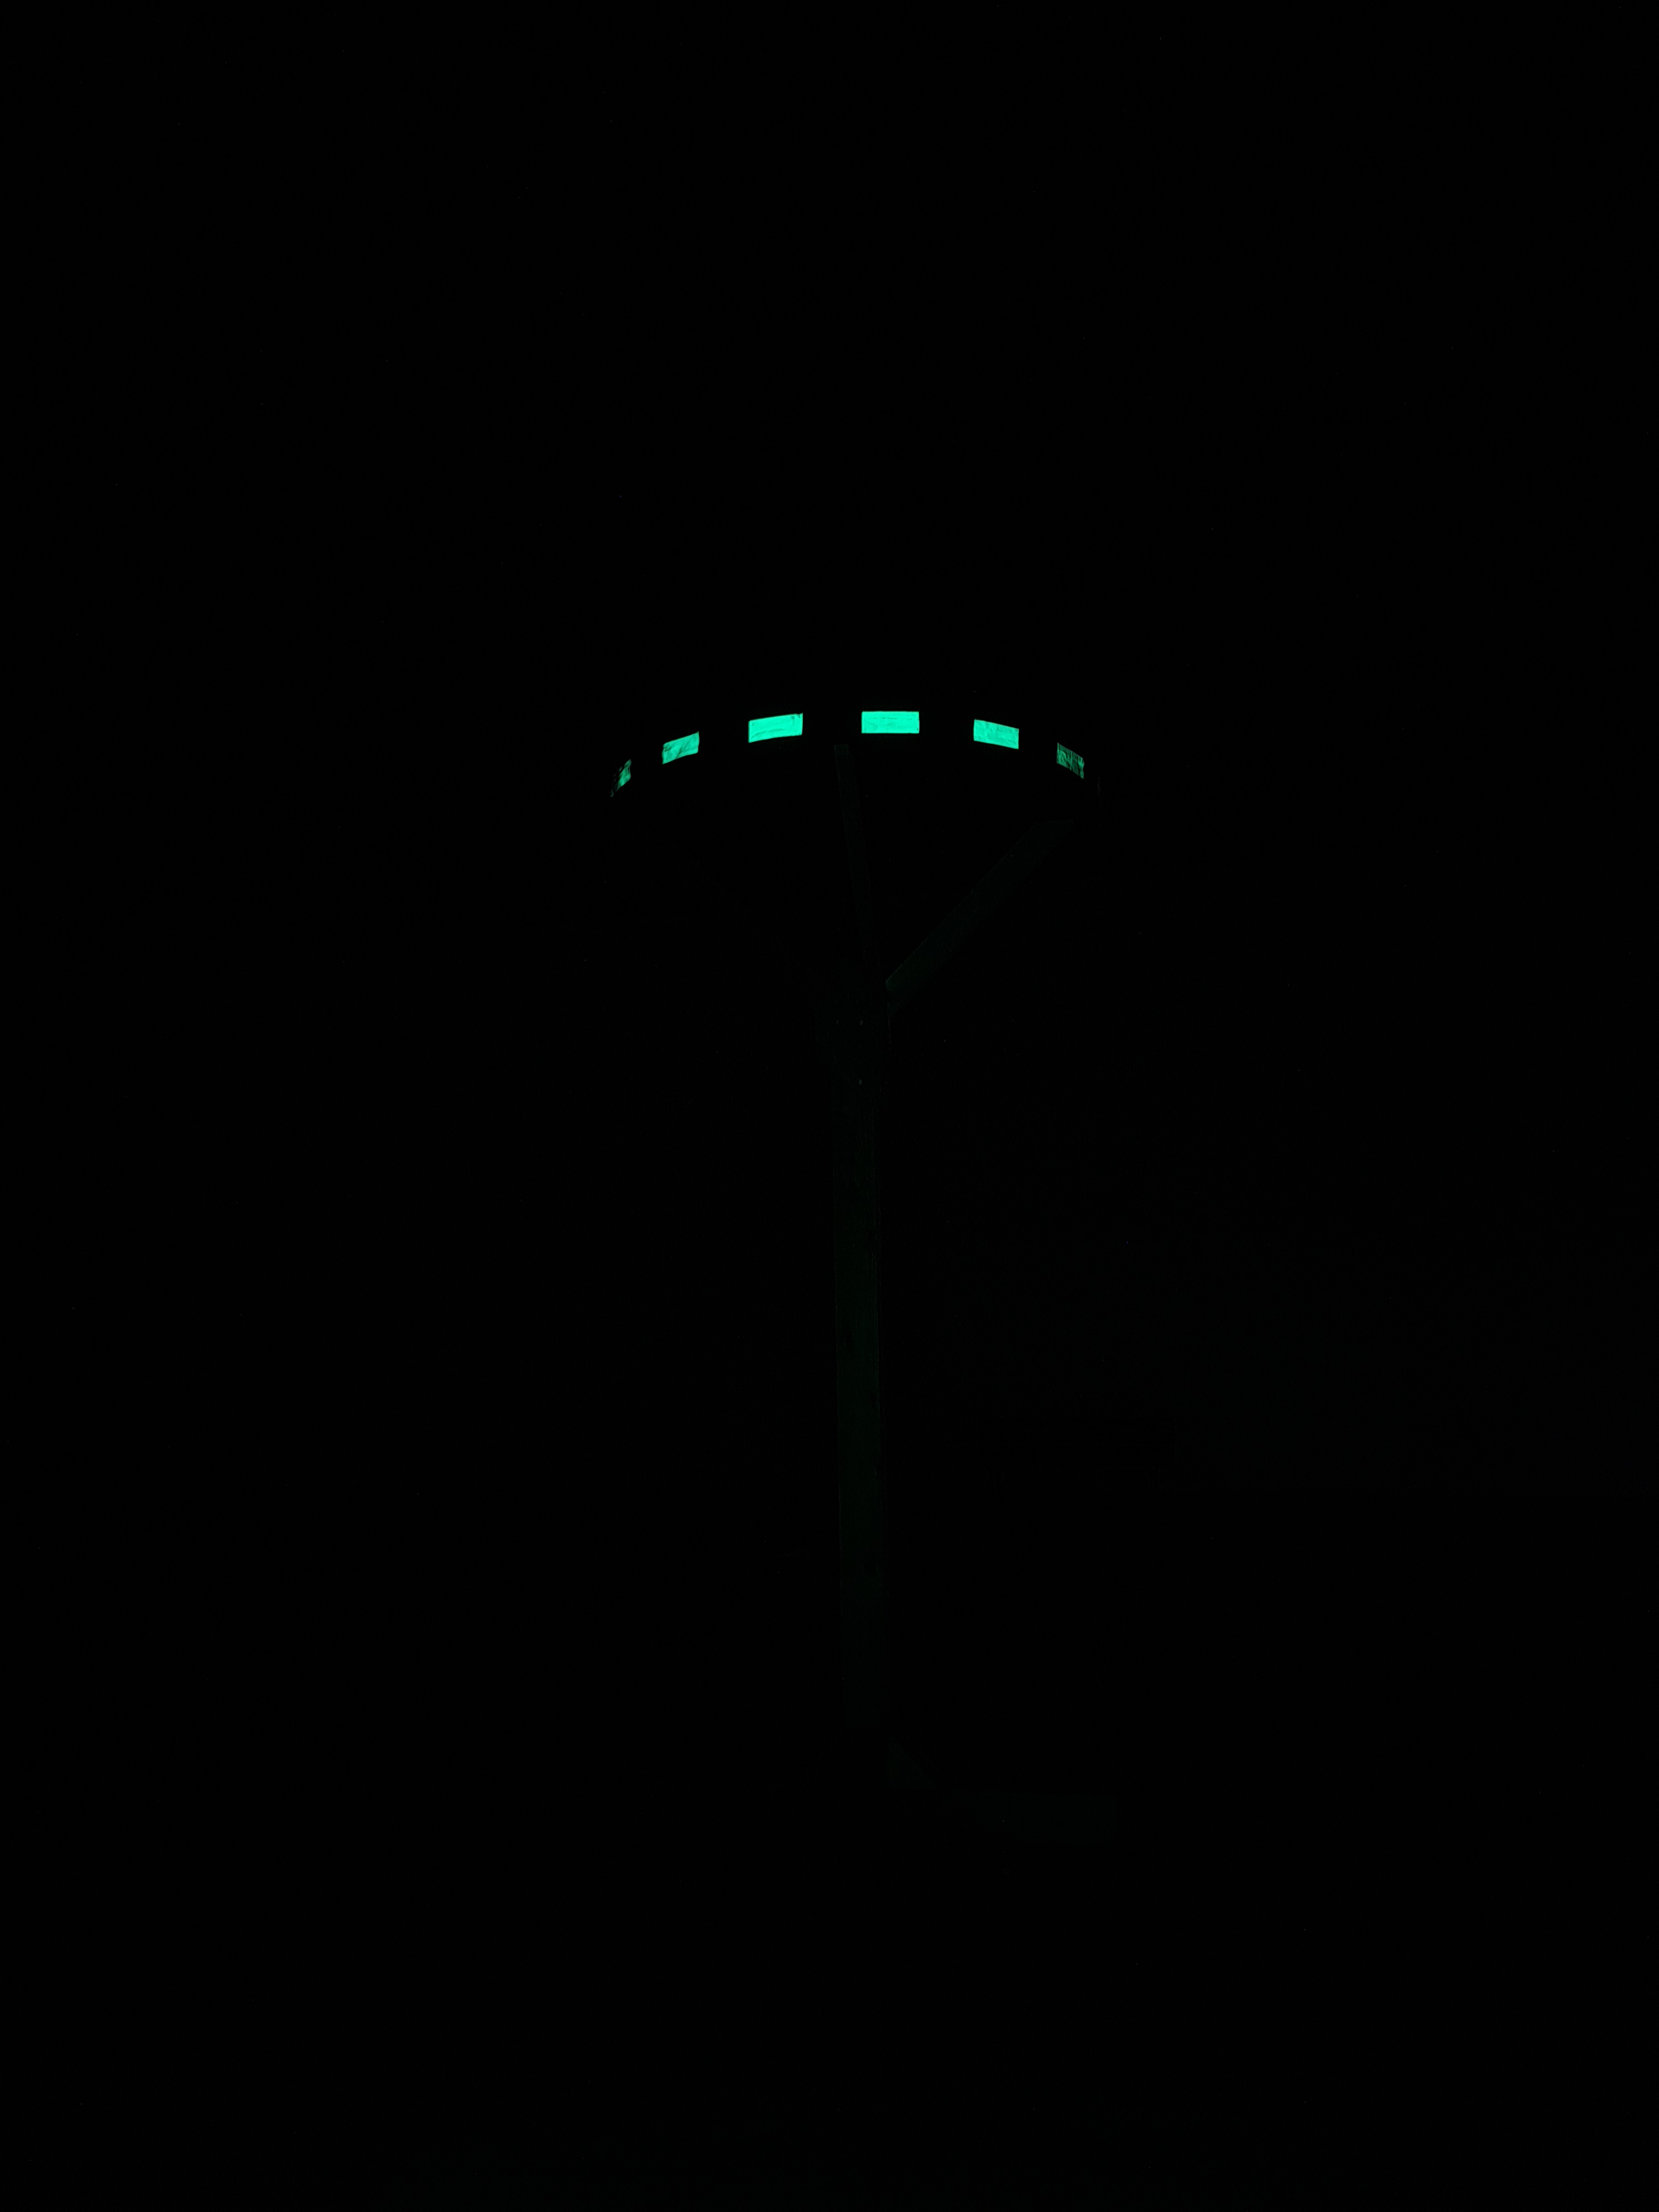hoop: (610, 700, 1089, 805)
